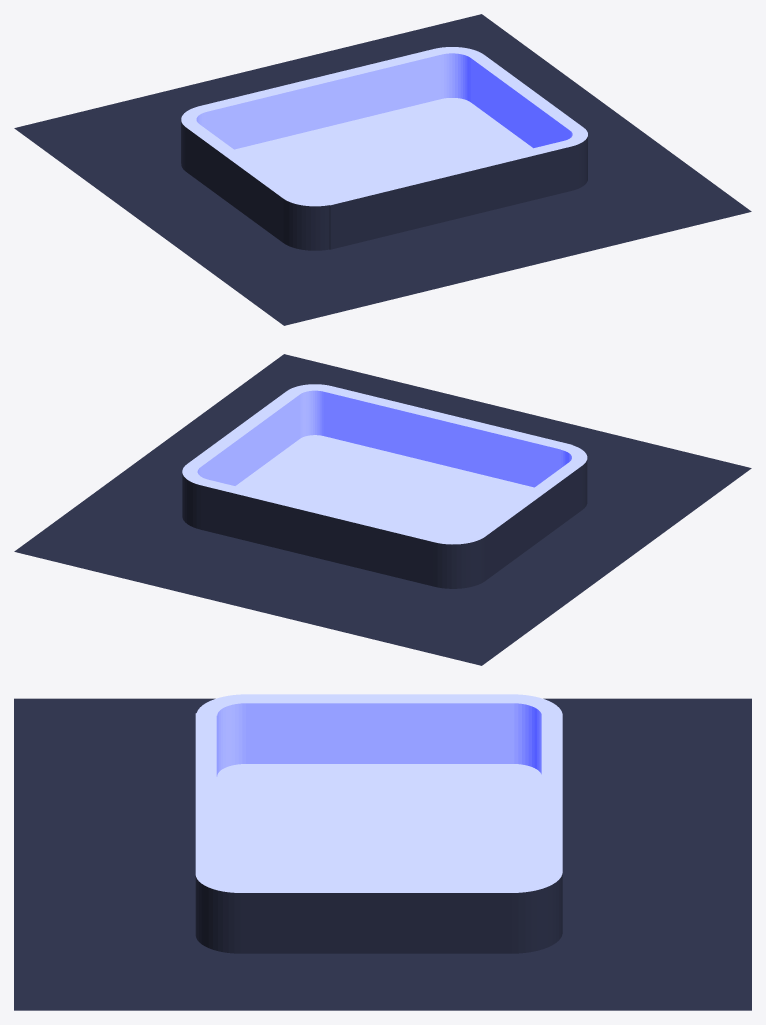
File: home.glb
3 renders of one model, top to bottom at view 1: azimuth 30°, elevation 25°; view 2: azimuth 150°, elevation 25°; view 3: azimuth 270°, elevation 25°, orthographic. The views are drawn at different scales.
Parts seen in each view (by area): view 1: 平面.001; view 2: 平面.001; view 3: 平面.001.
Part boxes in pixels (<box>): 平面.001: <box>14,14,751,325</box>; 平面.001: <box>14,354,751,665</box>; 平面.001: <box>14,694,751,1010</box>.
Size of the model in its own units: 9.56 by 0.8671 by 9.56.
